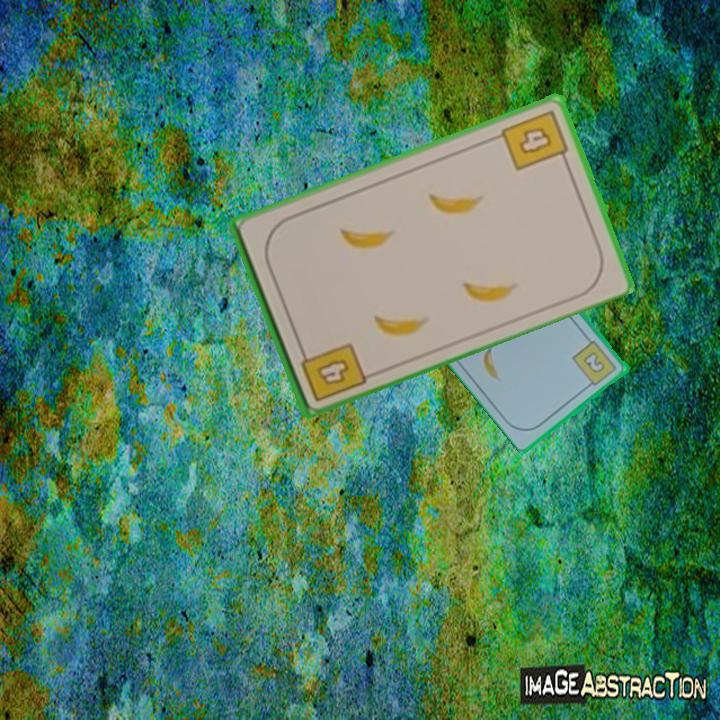2b: (569, 337, 620, 391)
4b: (497, 106, 572, 174), (296, 338, 369, 404)
